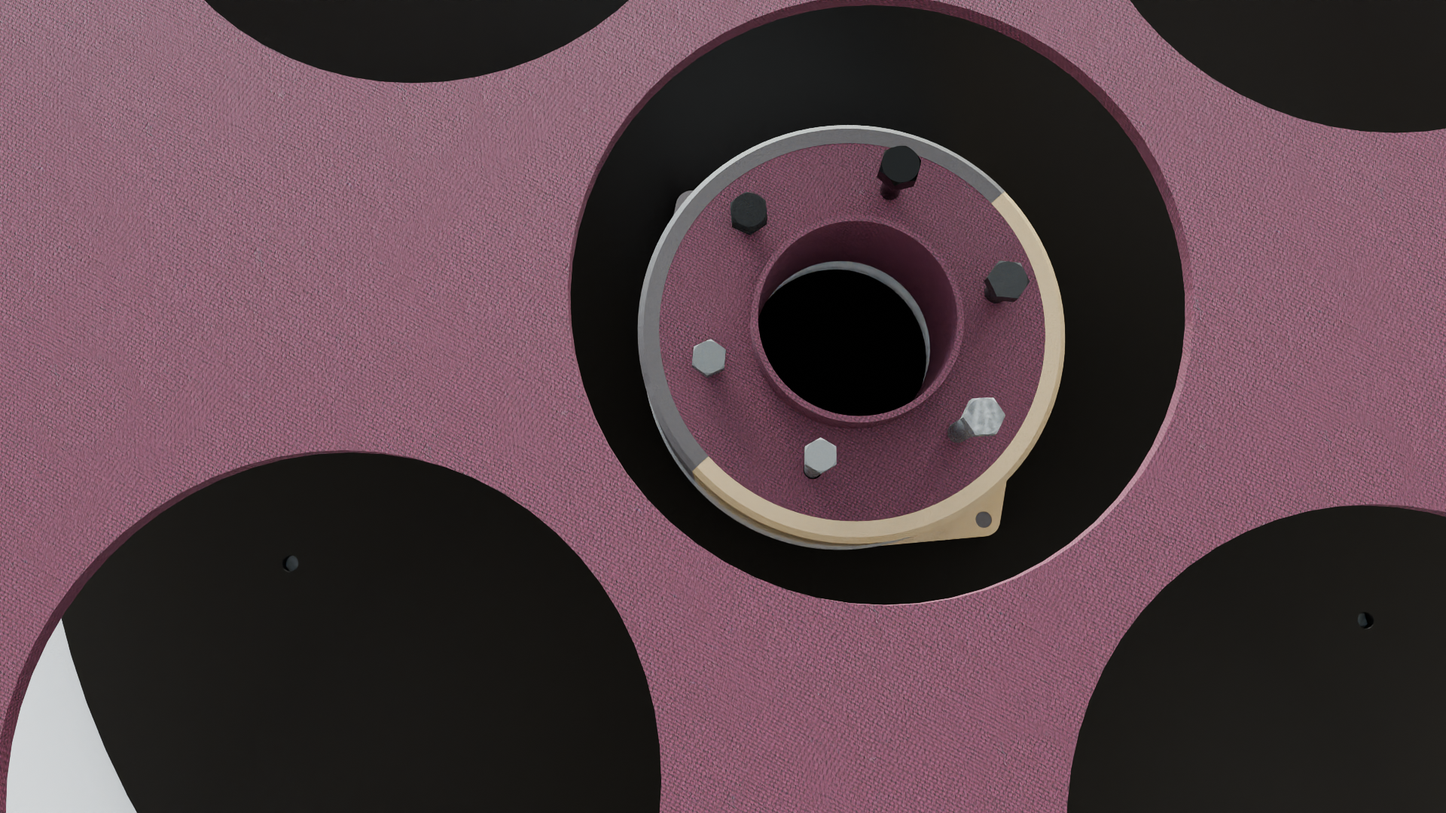bolt: (879, 146, 921, 186), (987, 260, 1030, 299), (963, 397, 1005, 435), (731, 192, 767, 230), (692, 340, 726, 376), (805, 437, 837, 473)
